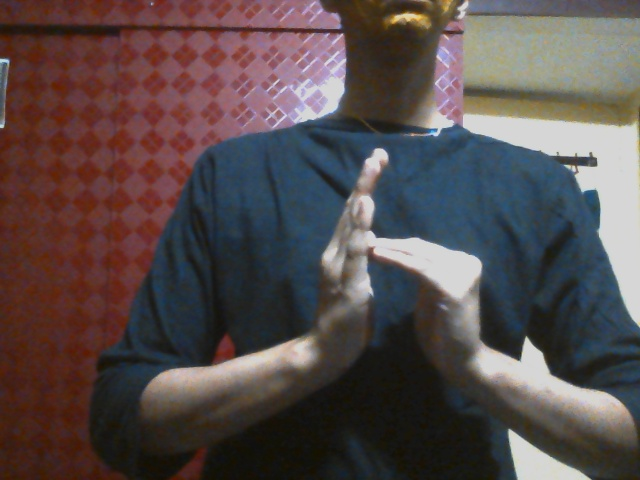Z: (288, 148, 492, 424)
